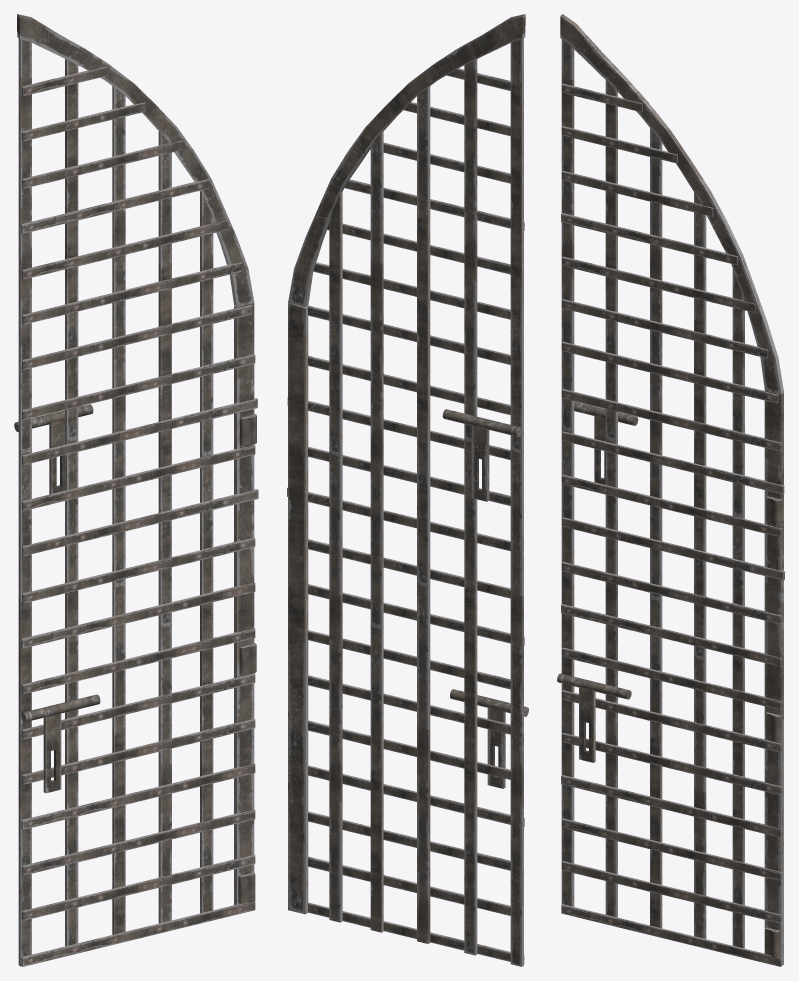
The model's file is SM_MetalGate02.FBX.
3 views of the same model, side by side, from view 1: azimuth 30°, elevation 25°; view 2: azimuth 150°, elevation 25°; view 3: azimuth 330°, elevation 25° (orthographic). The views are drawn at different scales.
Visible parts, largest first — view 1: SM_MetalGate02; view 2: SM_MetalGate02; view 3: SM_MetalGate02.
Part boxes in pixels (bbox=[...]): SM_MetalGate02: bbox=[14, 14, 258, 966]; SM_MetalGate02: bbox=[287, 14, 528, 966]; SM_MetalGate02: bbox=[557, 14, 784, 966].
Size of the model in its own units: 149 by 12.99 by 571.
